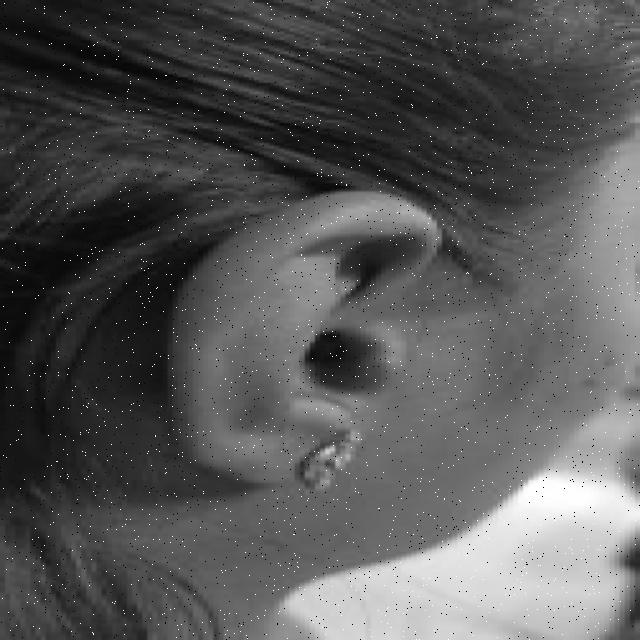ear: (163, 191, 437, 480)
